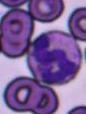N: (26, 30, 82, 85)
